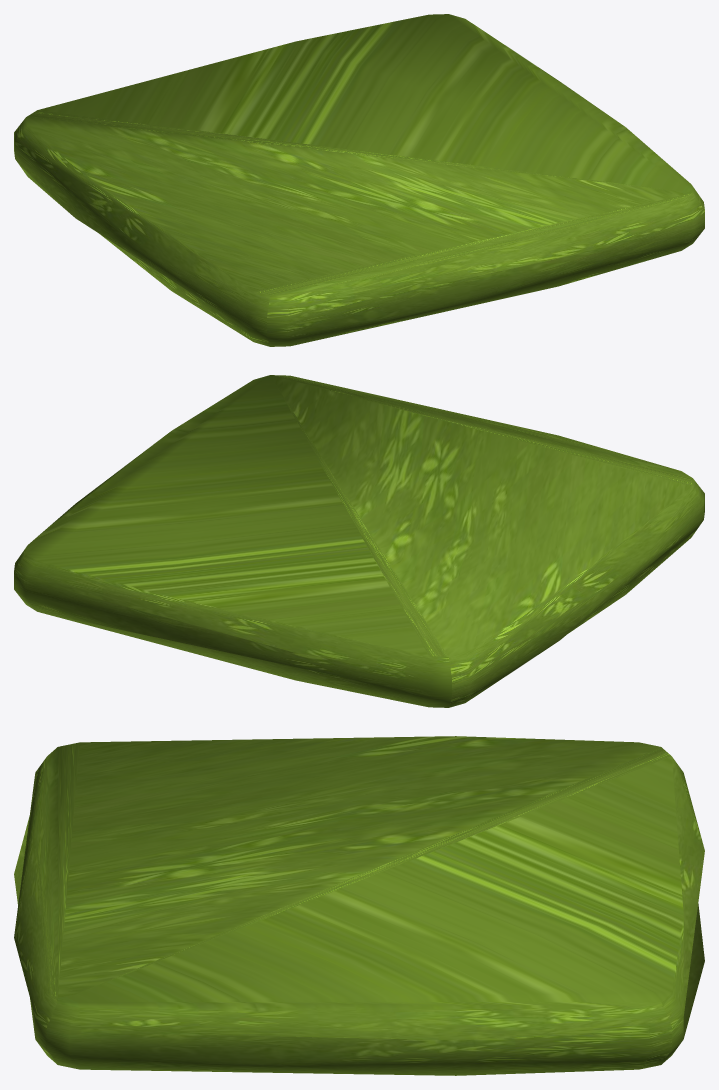
The model's file is Plant-Base.fbx.
3 views of the same model, one above another, from view 1: azimuth 30°, elevation 25°; view 2: azimuth 150°, elevation 25°; view 3: azimuth 270°, elevation 25° (orthographic). The views are drawn at different scales.
Parts seen in each view (by area): view 1: Plant-Base; view 2: Plant-Base; view 3: Plant-Base.
Part boxes in pixels (left/top/right/bottom): Plant-Base: left=14, top=14, right=704, bottom=346; Plant-Base: left=14, top=375, right=704, bottom=707; Plant-Base: left=14, top=736, right=704, bottom=1075.
Bounding box in the file's own units: 120 × 12.55 × 120.
1 material, 1 textured.
